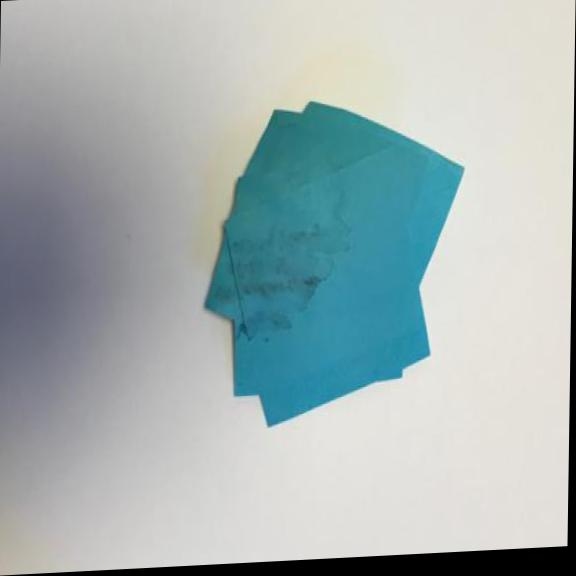Kertas: (203, 87, 464, 437)
